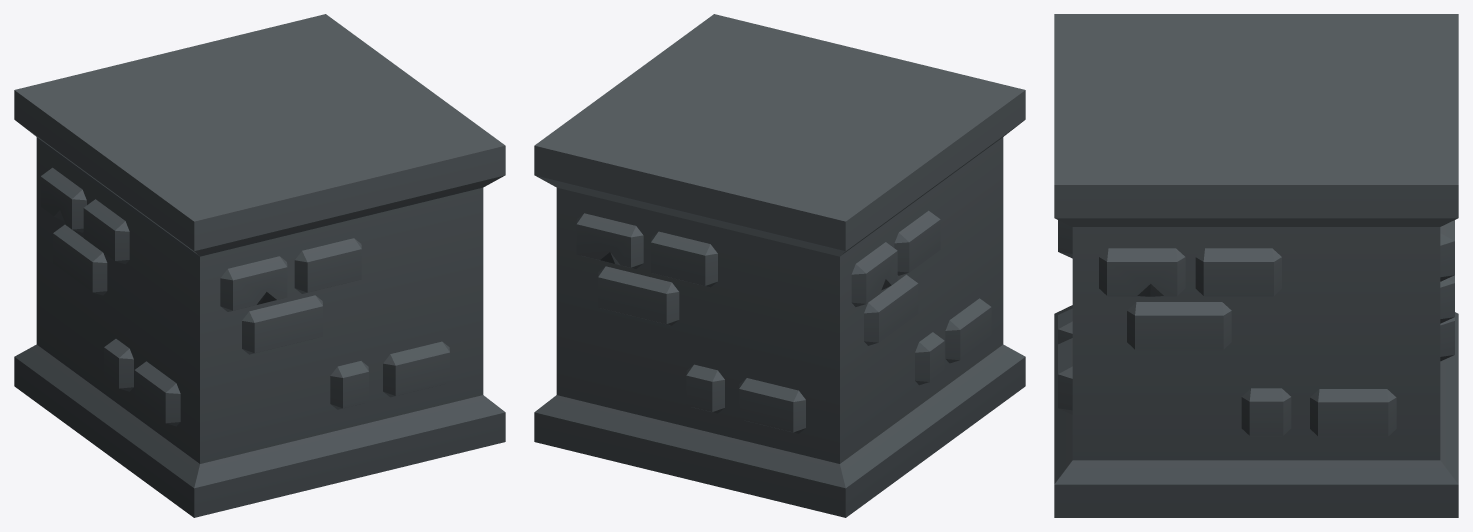
Rendered from floor_foundation_allsides.gltf.
The picture shows the model from 3 angles, left to right: view 1: azimuth 30°, elevation 25°; view 2: azimuth 150°, elevation 25°; view 3: azimuth 270°, elevation 25°; orthographic projection. The views are drawn at different scales.
Visible parts, largest first — view 1: floor_foundation_allsides; view 2: floor_foundation_allsides; view 3: floor_foundation_allsides.
Boxes of the visible parts, x1,y1,x2,y2 form: floor_foundation_allsides: (14, 14, 505, 517); floor_foundation_allsides: (534, 14, 1025, 517); floor_foundation_allsides: (1054, 14, 1458, 517).
Bounding box in the file's own units: 2.2 × 2 × 2.2.
Materials: 1 (1 with a texture image).
